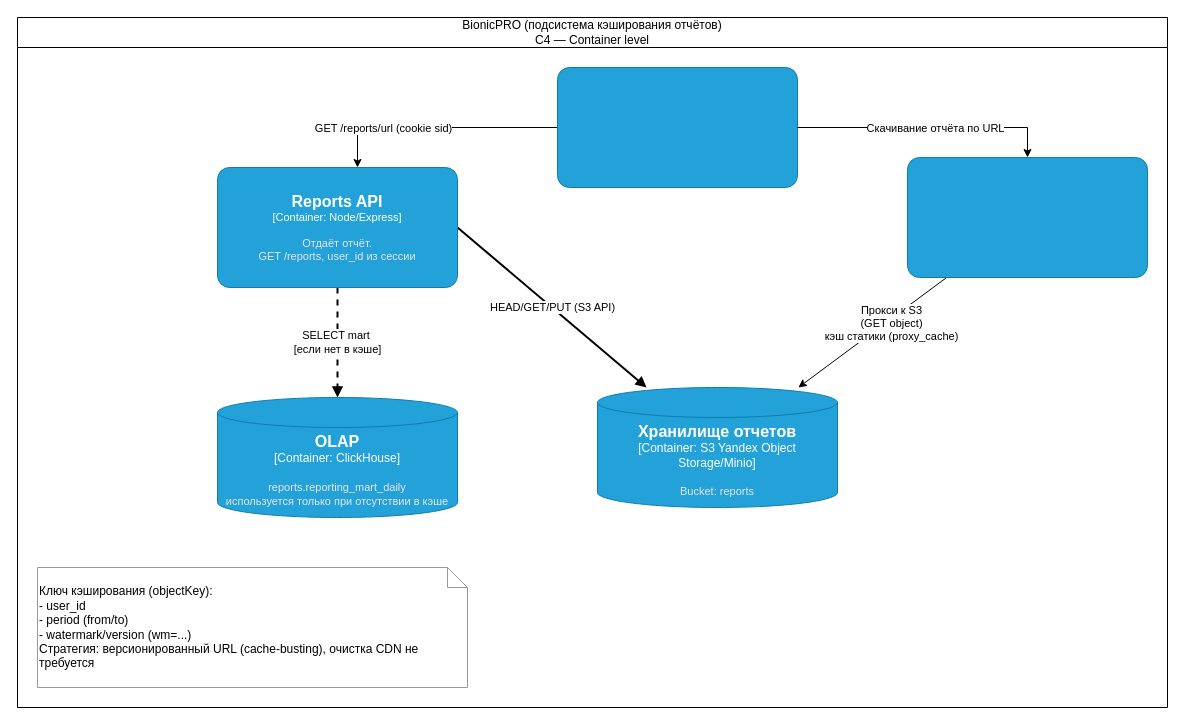
Image size: 1185x725. Some labels were removed from this diagram. Each missing label, with the centre of its shape:
UI Отчётов [Container: React SPA] Запрос URL отчёта: the point at 677,127
Эмулятор CDN [Container: Nginx] reverse proxy + proxy_cache: the point at 1027,217
